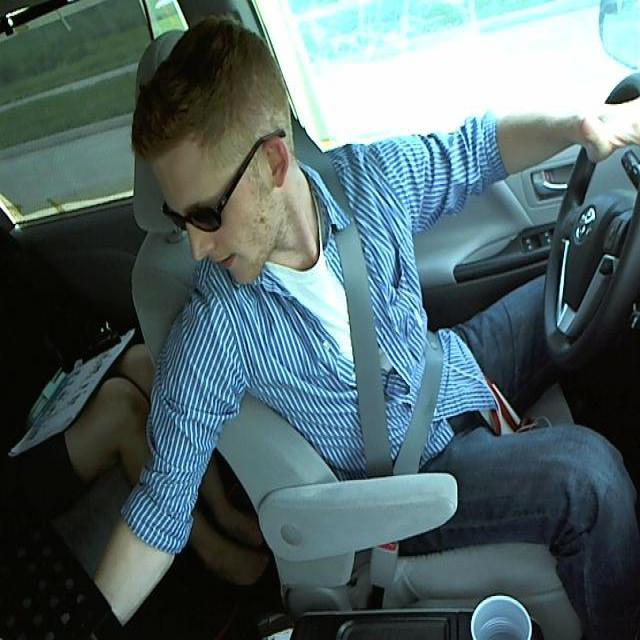seatbelt: (332, 214, 446, 482)
